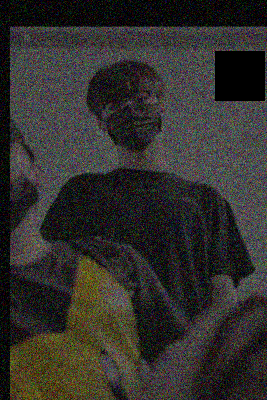with_mask: (102, 86, 162, 150)
